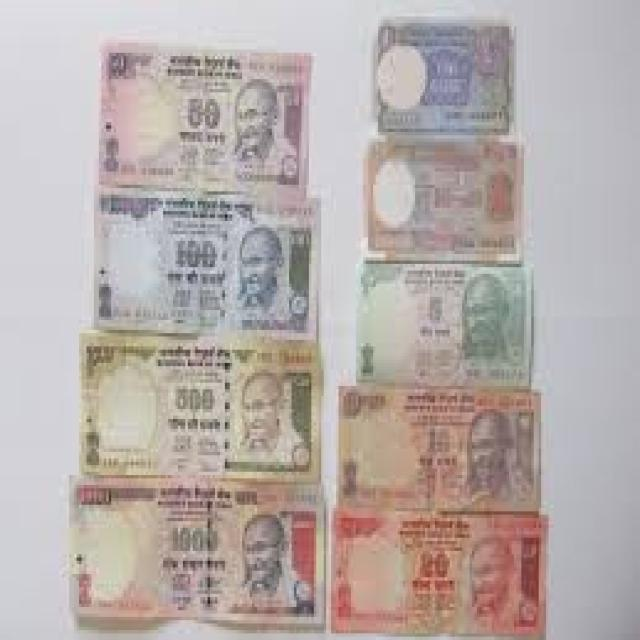money: (74, 324, 326, 493)
